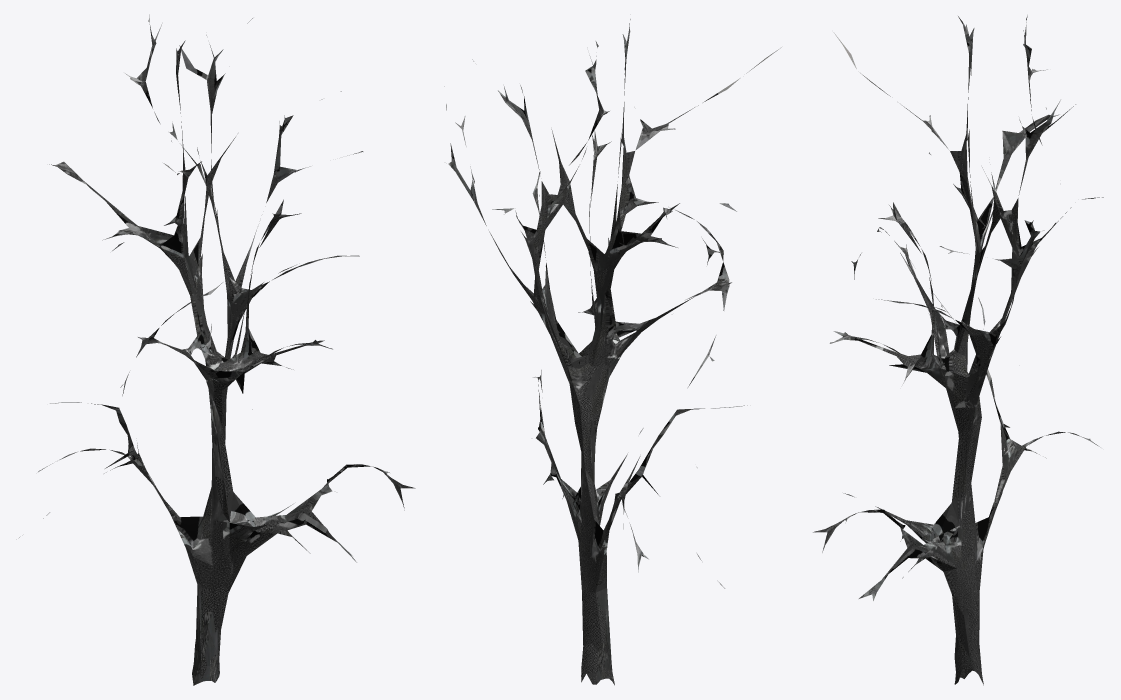
The model's file is tree_snow_b.glb.
3 views of the same model, side by side, from view 1: azimuth 30°, elevation 25°; view 2: azimuth 150°, elevation 25°; view 3: azimuth 270°, elevation 25° (orthographic). The views are drawn at different scales.
Visible parts, largest first — view 1: output_unwrapped; view 2: output_unwrapped; view 3: output_unwrapped.
Boxes of the visible parts, <box> form: output_unwrapped: <box>19,14,415,685</box>; output_unwrapped: <box>444,19,781,685</box>; output_unwrapped: <box>813,15,1103,685</box>.
Bounding box in the file's own units: 0.8135 × 1.65 × 0.6667.
1 material, 1 textured.
